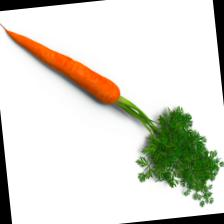carrot: (5, 18, 121, 114)
